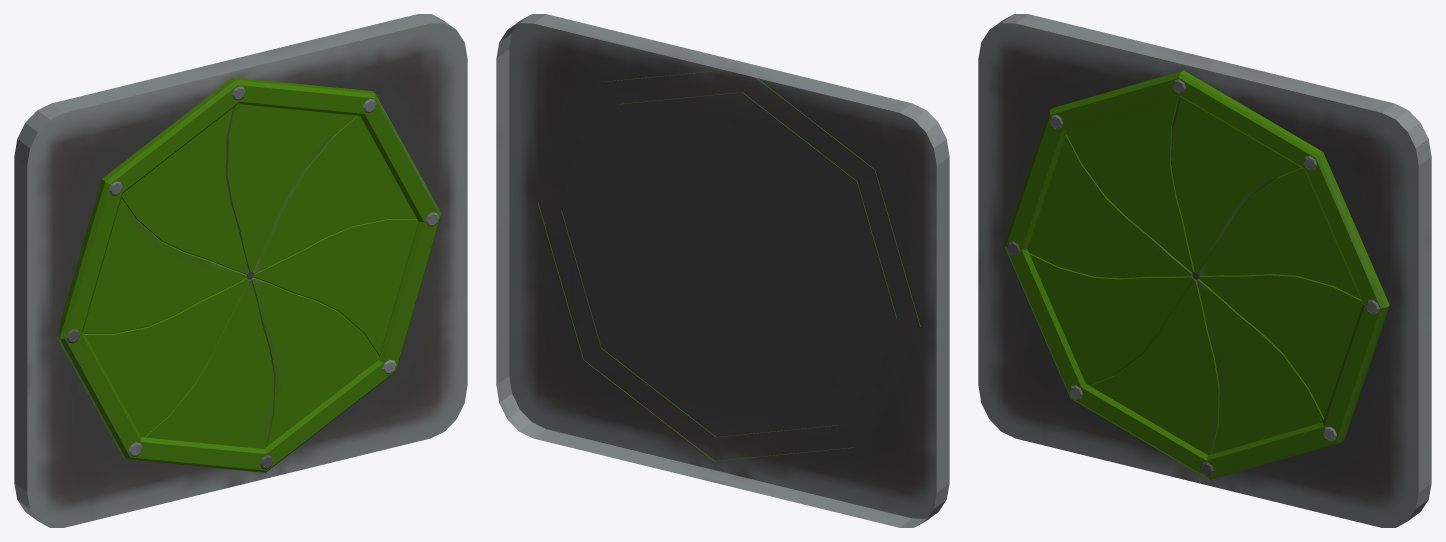
The model's file is Air Vent.fbx.
The picture shows the model from 3 angles, left to right: view 1: azimuth 30°, elevation 25°; view 2: azimuth 150°, elevation 25°; view 3: azimuth 330°, elevation 25°; orthographic projection.
Parts seen in each view (by area): view 1: Air Vent; view 2: Air Vent; view 3: Air Vent.
Boxes of the visible parts, bbox=[...] form: Air Vent: bbox=[14, 14, 467, 527]; Air Vent: bbox=[496, 14, 949, 527]; Air Vent: bbox=[978, 14, 1431, 527].
Bounding box in the file's own units: 29.07 × 26.18 × 2.16.
